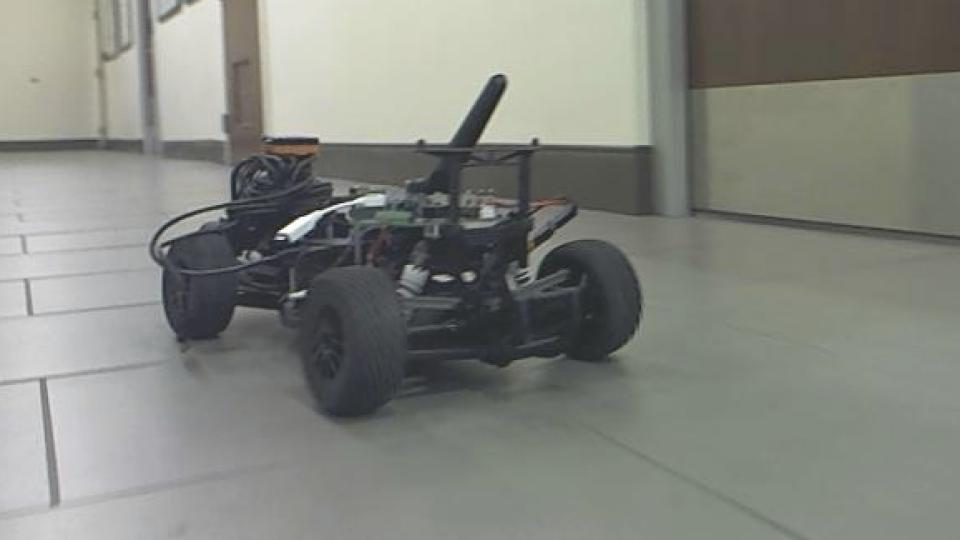car: (148, 70, 648, 422)
